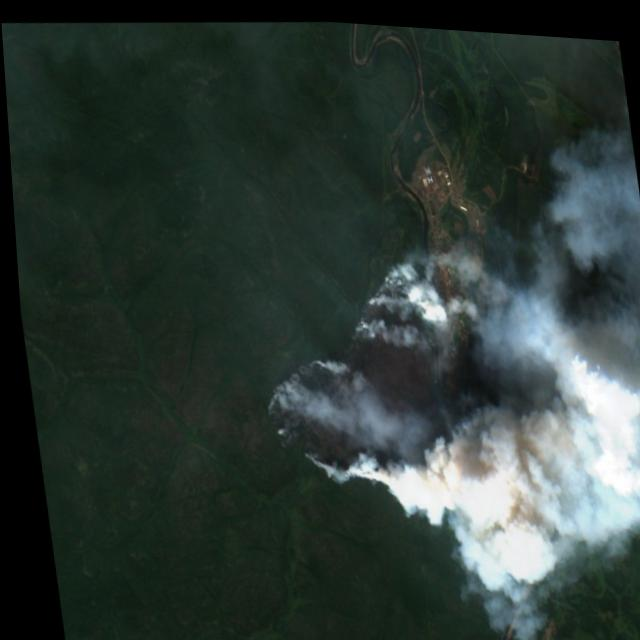fire: (239, 233, 558, 534)
